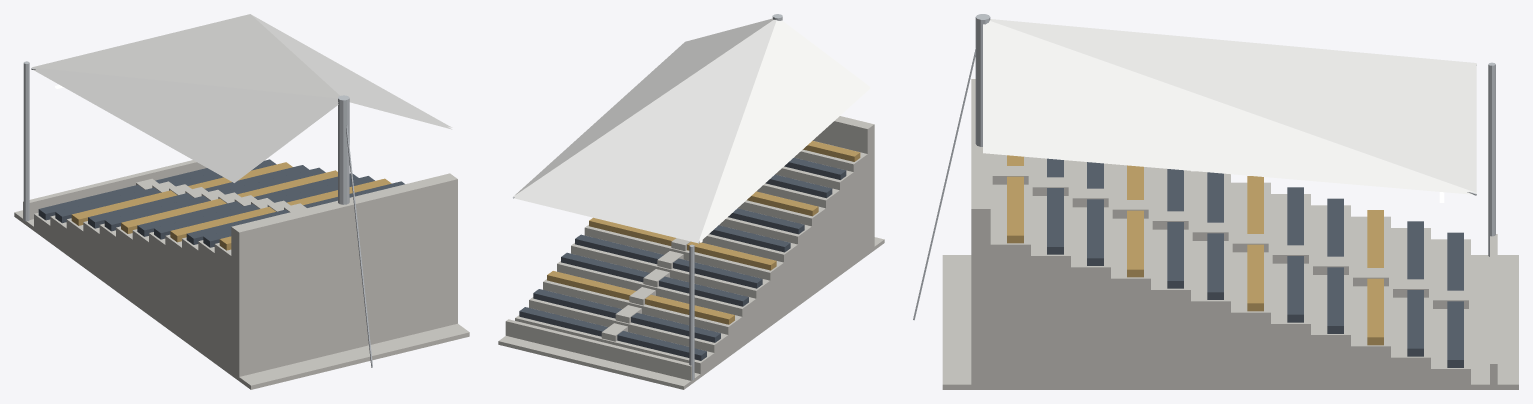
The model's file is grada-vela.glb.
The picture shows the model from 3 angles, left to right: view 1: azimuth 30°, elevation 25°; view 2: azimuth 150°, elevation 25°; view 3: azimuth 270°, elevation 25°; orthographic projection. The views are drawn at different scales.
Parts seen in each view (by area): view 1: grada-vela; view 2: grada-vela; view 3: grada-vela.
Boxes of the visible parts, x1=… form: grada-vela: x1=14, y1=14, x2=469, y2=389; grada-vela: x1=498, y1=14, x2=884, y2=389; grada-vela: x1=913, y1=14, x2=1518, y2=389.
Bounding box in the file's own units: 16.14 × 17.7 × 31.54.
